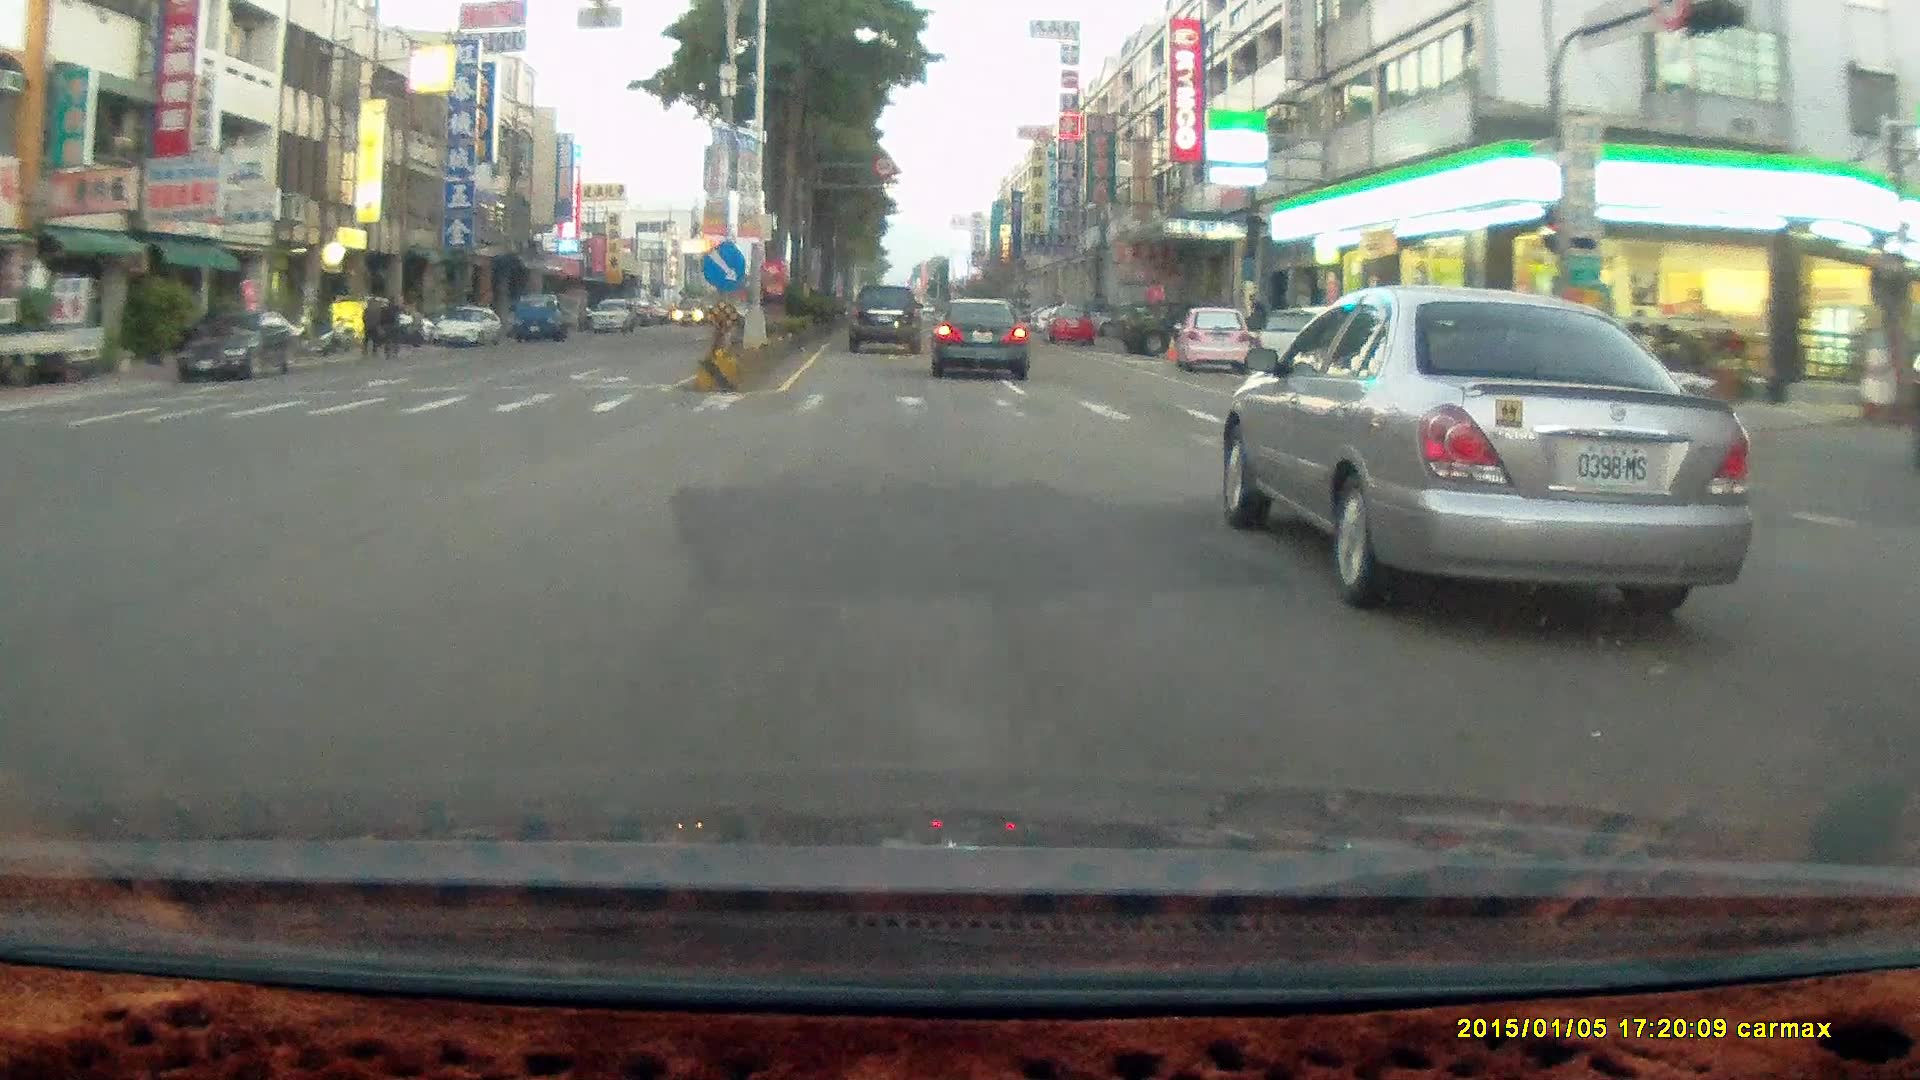pedestrian: (374, 291, 403, 357), (377, 293, 402, 363), (358, 294, 383, 360), (358, 293, 379, 359)
vehicle: (1227, 286, 1757, 626), (1357, 307, 1513, 417), (1251, 306, 1385, 391), (2, 291, 102, 389), (177, 312, 300, 384), (179, 311, 304, 379), (931, 296, 1026, 377), (934, 301, 1031, 380), (0, 312, 101, 386), (848, 285, 928, 356), (1175, 309, 1257, 379), (844, 283, 921, 353), (1169, 306, 1249, 371), (1118, 297, 1200, 353), (430, 305, 503, 350), (514, 294, 580, 343), (431, 304, 500, 345), (513, 291, 567, 340), (1041, 301, 1090, 342), (591, 295, 637, 331)
